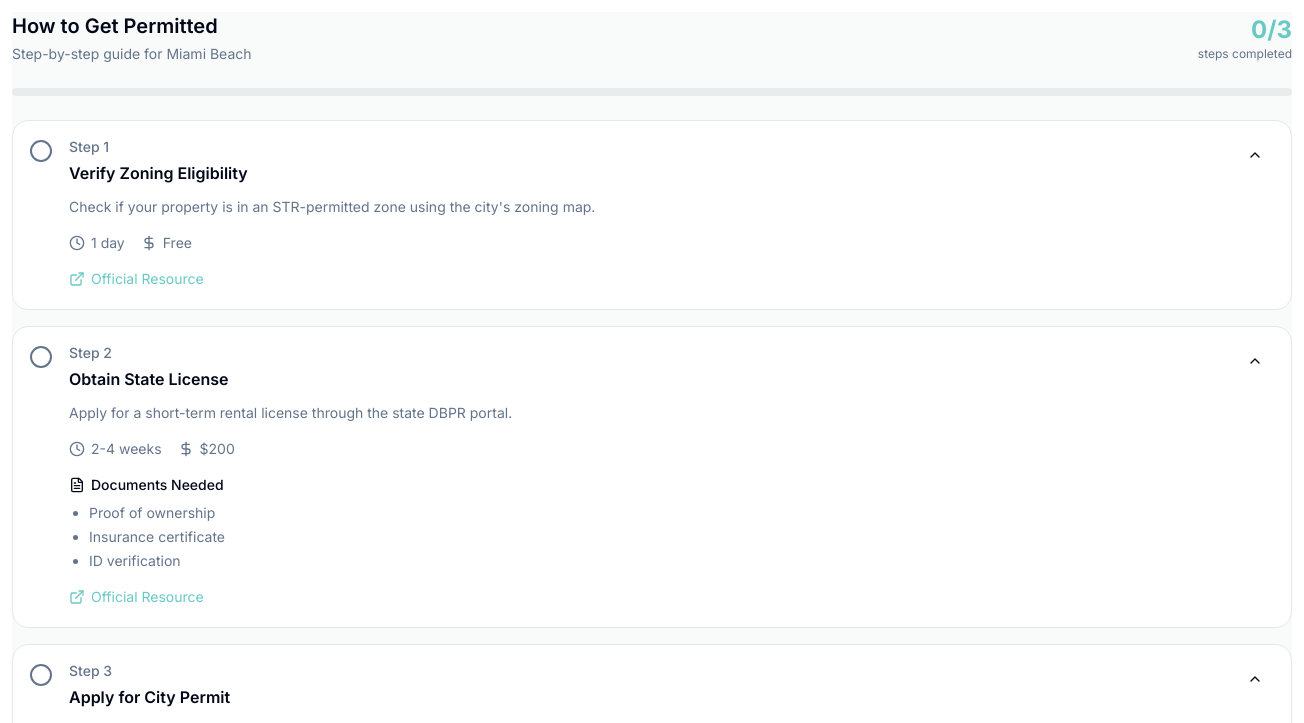
ApplicationSteps component › completion tracking › updates progress when multiple steps completed
Click the 1st button named "mark as complete": (41, 151) [29,139,53,163]
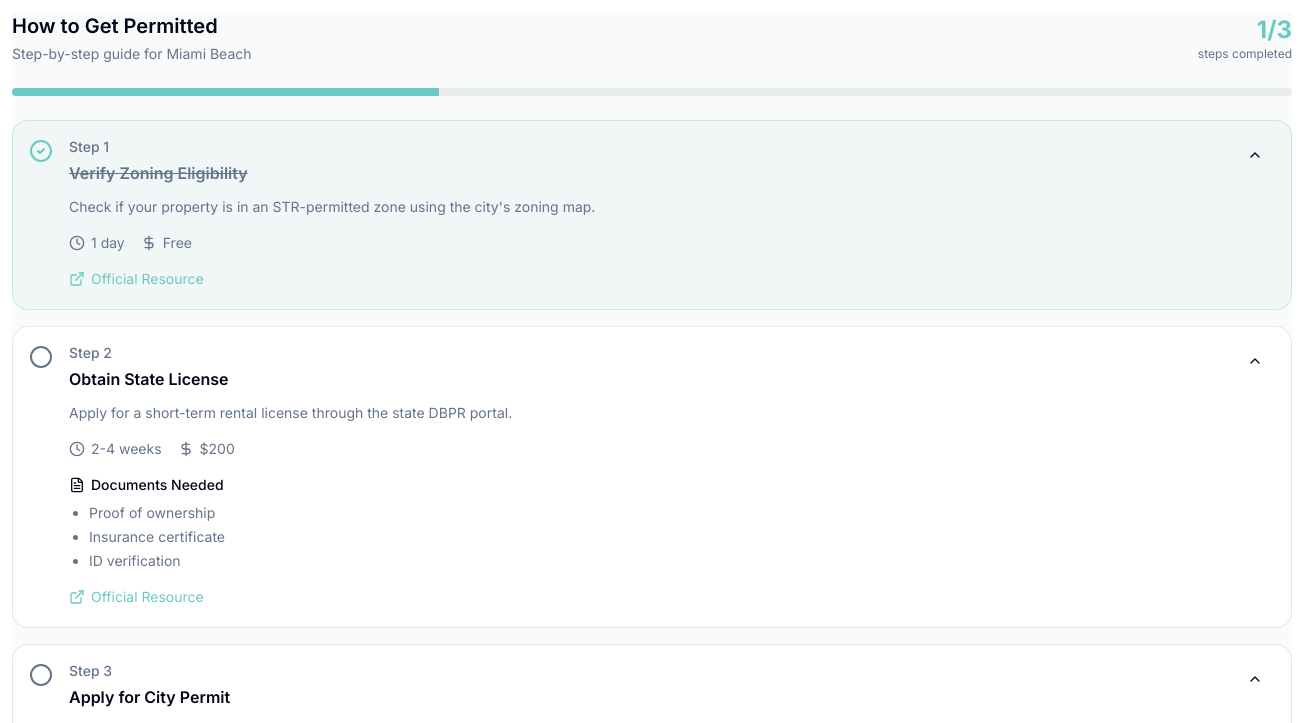
Click the 1st button named "mark as complete": (41, 357) [29,345,53,369]
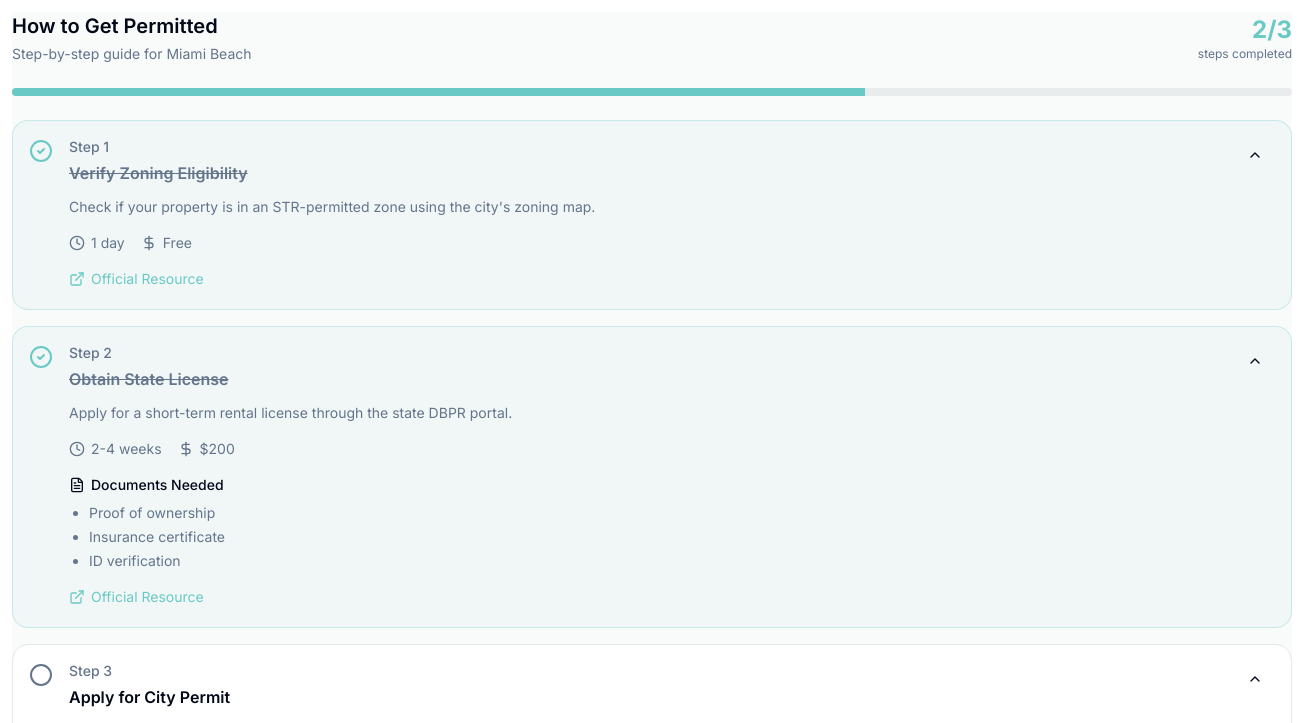
Check: the text "2/3" is shown, box [1252,15,1292,44]
